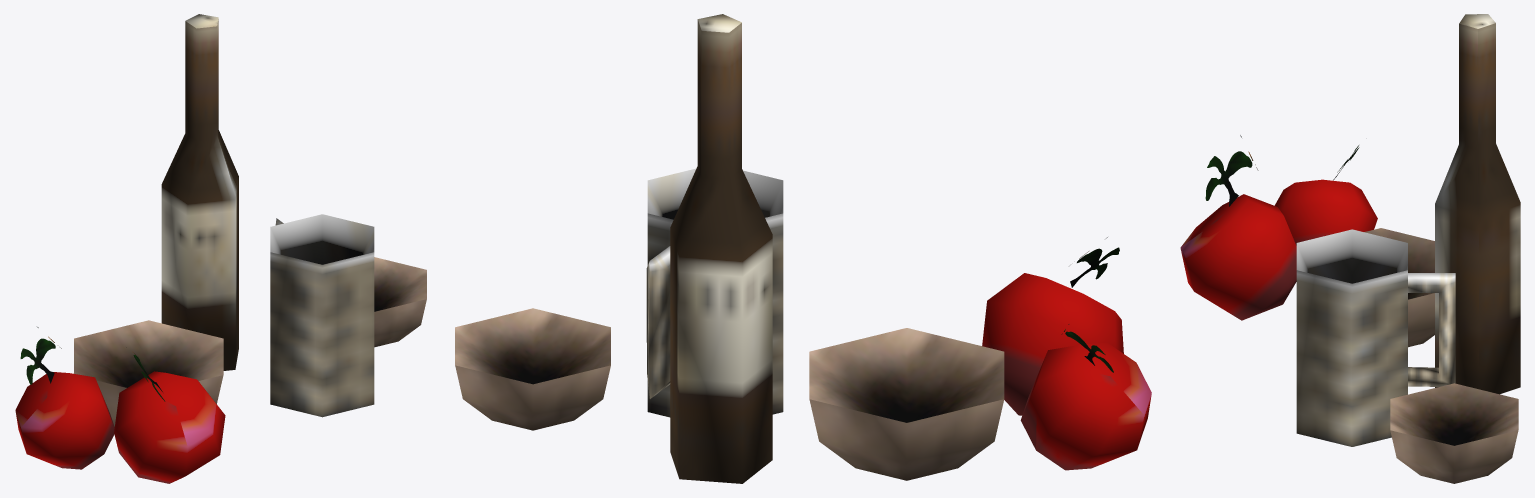
3 views of the same model, side by side, from view 1: azimuth 30°, elevation 25°; view 2: azimuth 150°, elevation 25°; view 3: azimuth 270°, elevation 25° (orthographic). The views are drawn at different scales.
Visible parts, largest first — view 1: a49; view 2: a49; view 3: a49.
Part boxes in pixels (x1=…): a49: x1=15, y1=14, x2=426, y2=483; a49: x1=455, y1=14, x2=1151, y2=483; a49: x1=1180, y1=14, x2=1520, y2=483.
Bounding box in the file's own units: 224 × 158 × 132.
